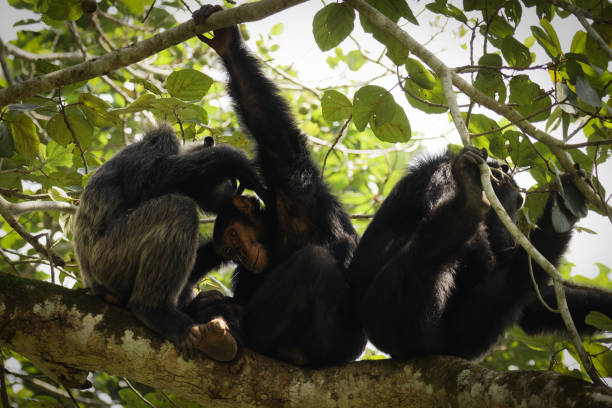chimpanzee: (203, 193, 290, 277)
